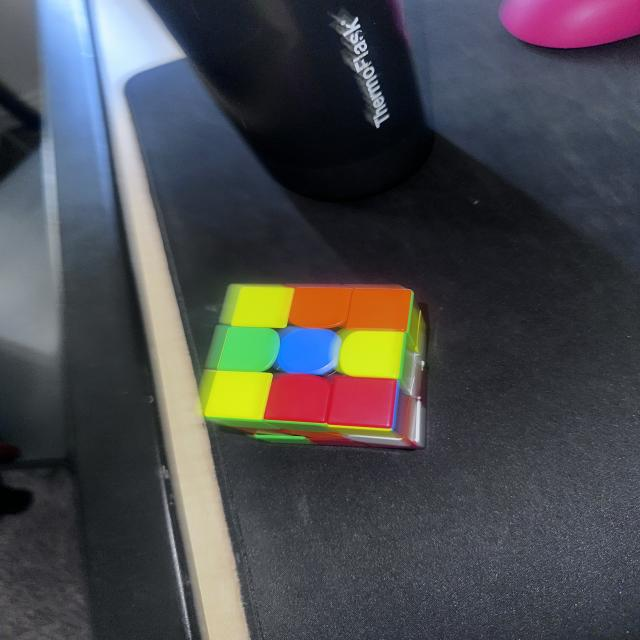sticker: (323, 373, 401, 432), (200, 369, 273, 429), (336, 396, 416, 448), (263, 372, 335, 429), (208, 325, 281, 374), (337, 330, 406, 381), (220, 285, 294, 331), (344, 286, 414, 334), (276, 327, 342, 377), (287, 286, 354, 331), (203, 324, 233, 372), (197, 368, 219, 413), (278, 428, 344, 441), (410, 304, 427, 354), (253, 432, 309, 443)
